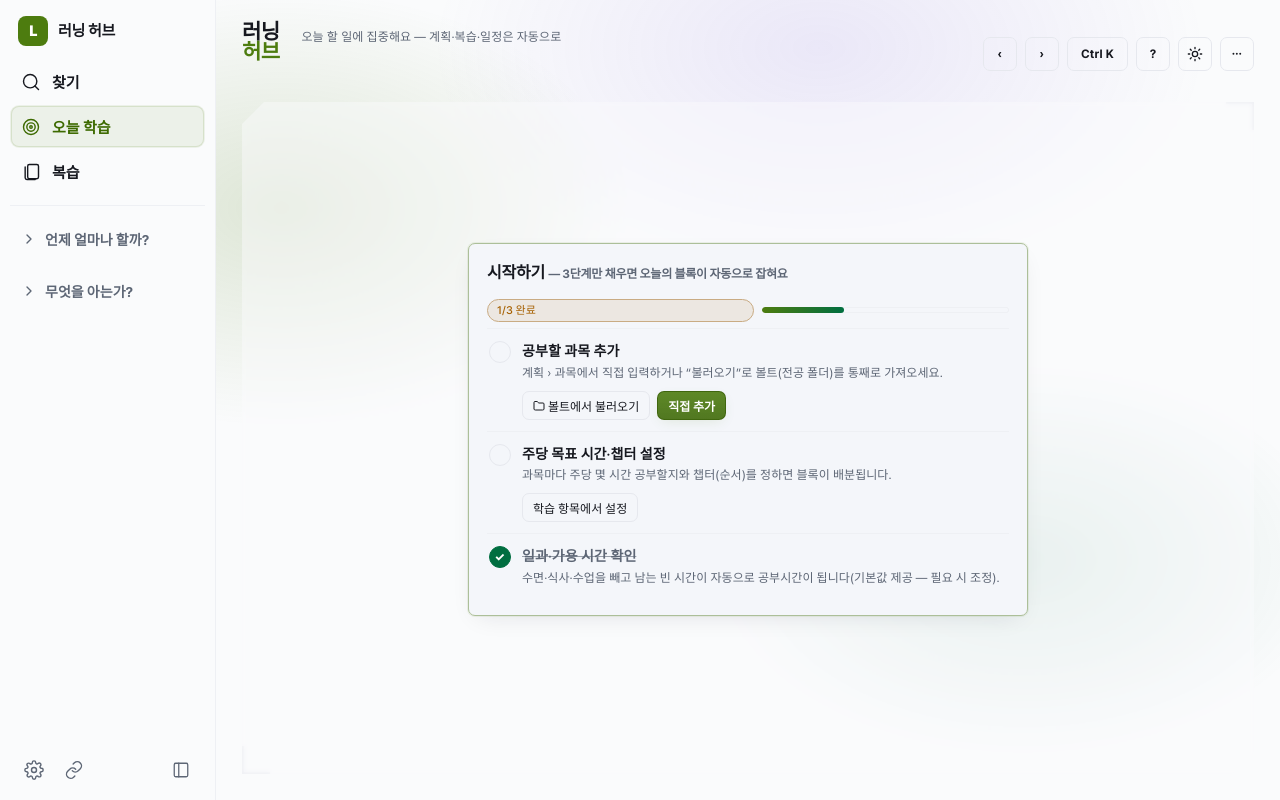
Test case: 축 접기 ② 헤더 클릭은 그 축의 얼굴로 **이동**한다 — 접기 토글이 아니다
expect the button "오늘 학습" is shown: met, box [10,105,205,148]
Click the button "언제 얼마나 할까?" at (108, 239), box [10,220,205,258]
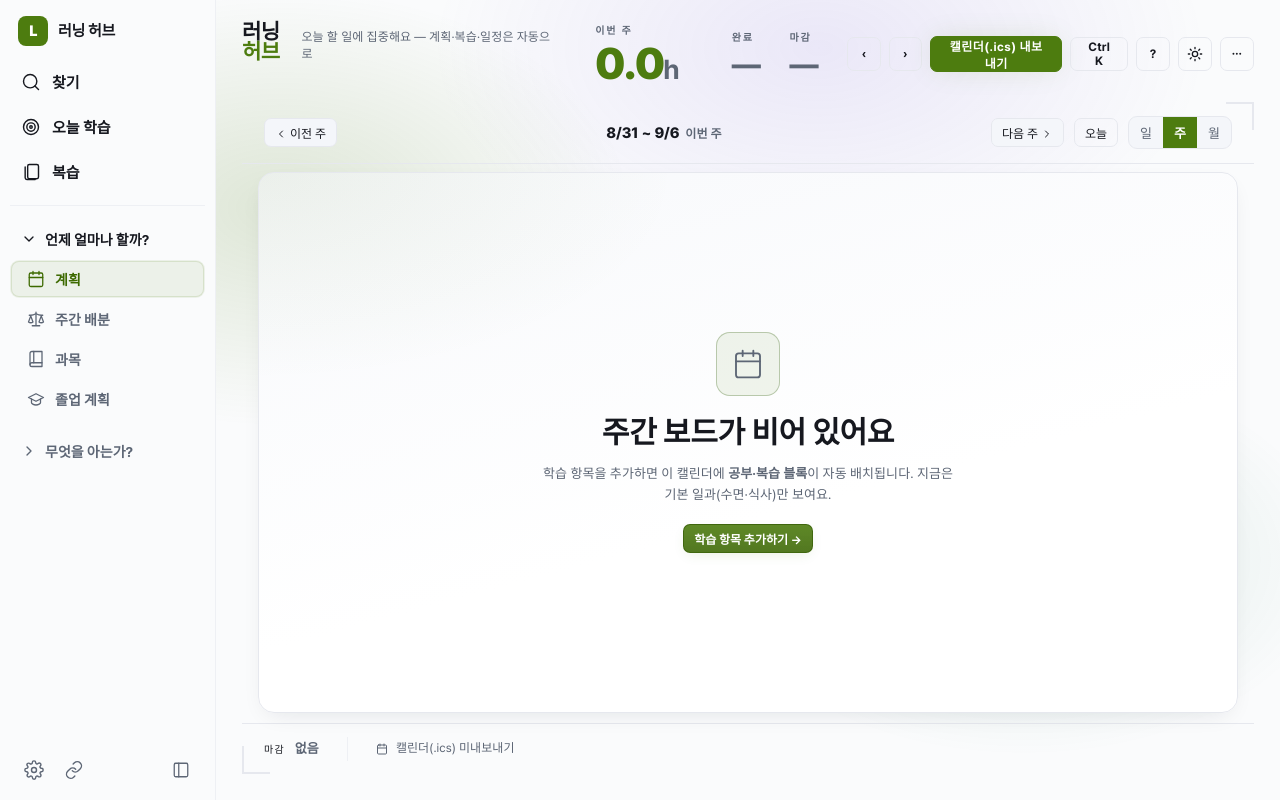
expect the button "언제 얼마나 할까?" is expanded: met, box [10,220,205,258]
